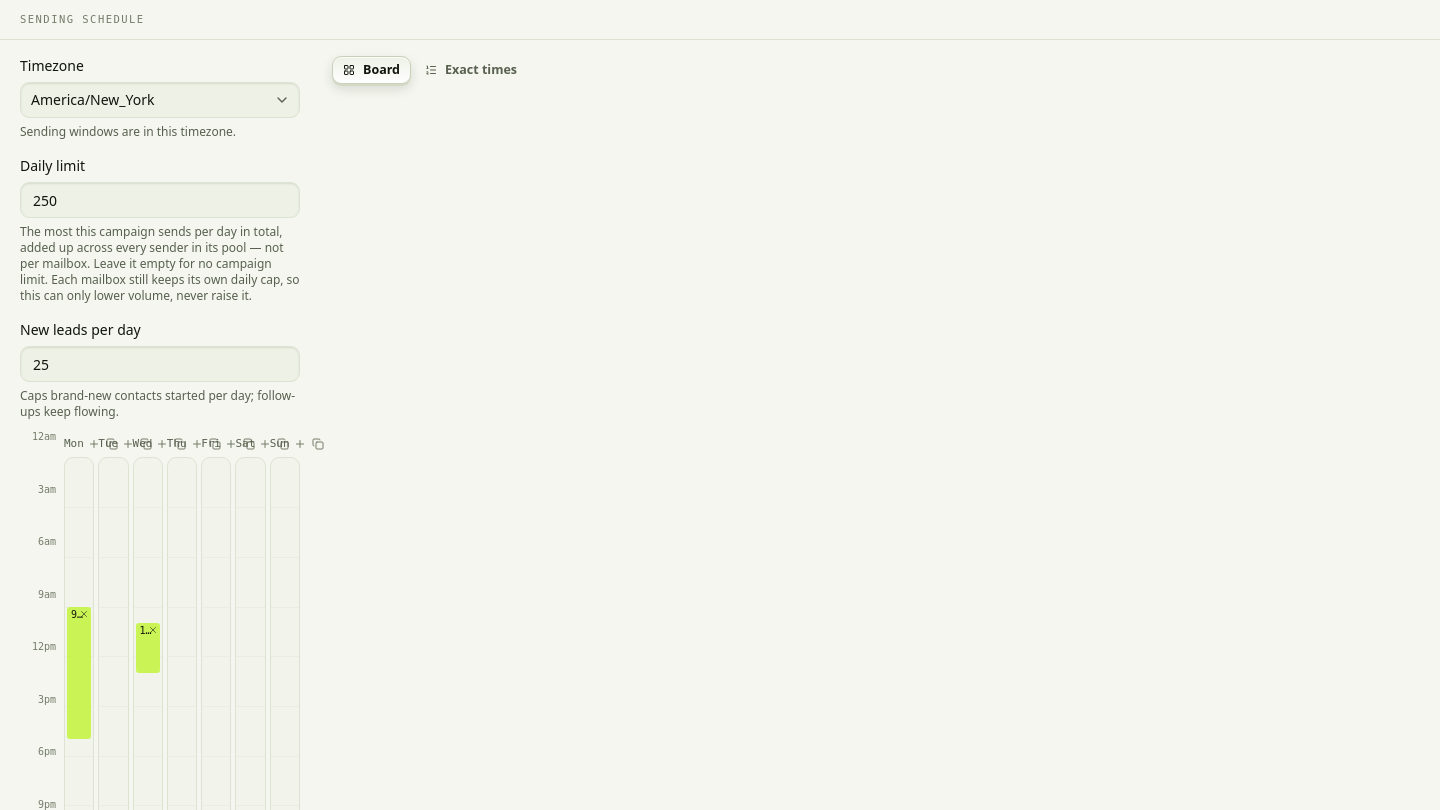
Test: SchedulePanel › sends the edited schedule as a full replace
Click the button "Exact times" at (471, 70), box [415,56,527,84]
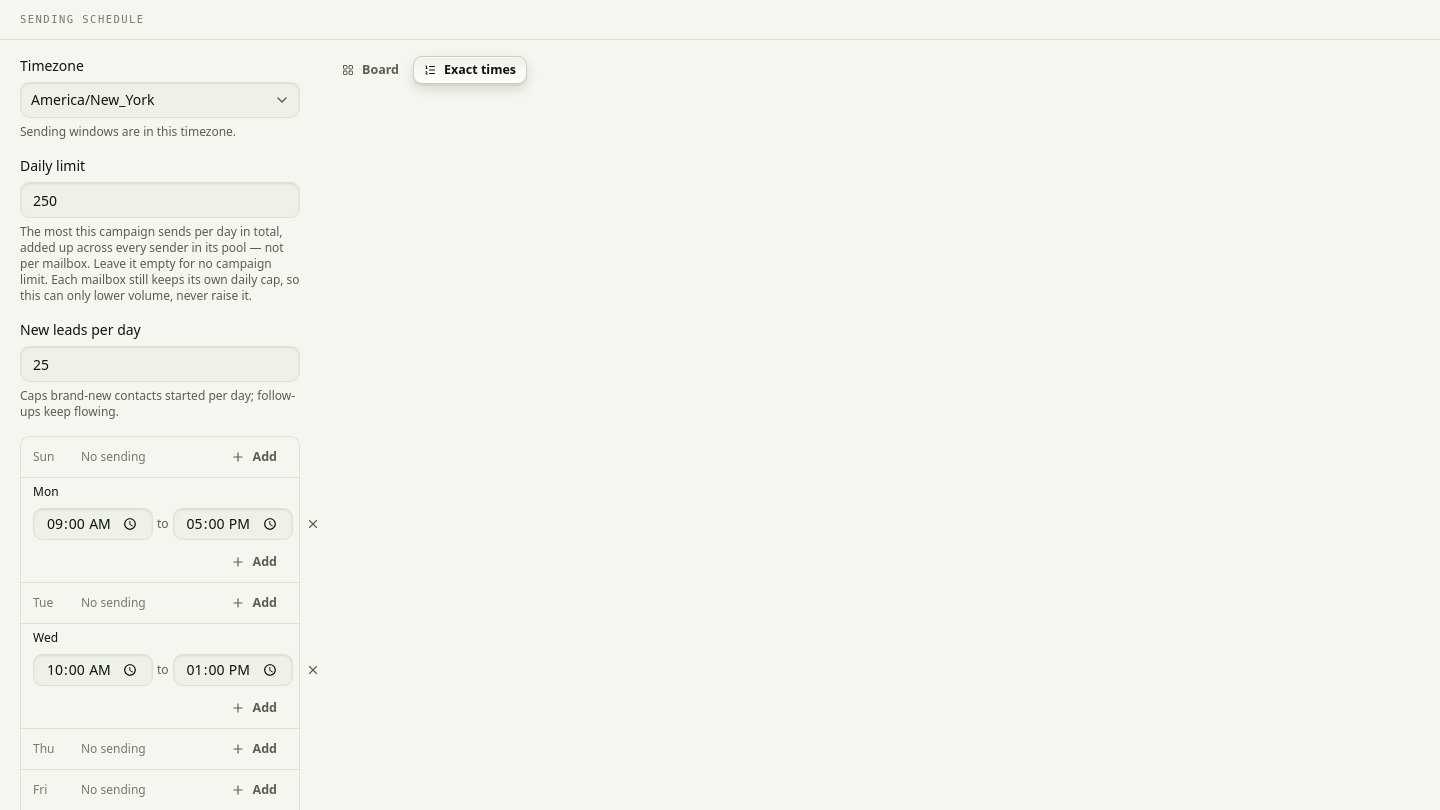
Expected: the time field named "Mon window 1 start" is shown
Replace the text in the time field named "Mon window 1 start" with "10:30" at (93, 524), box [33,508,153,540]
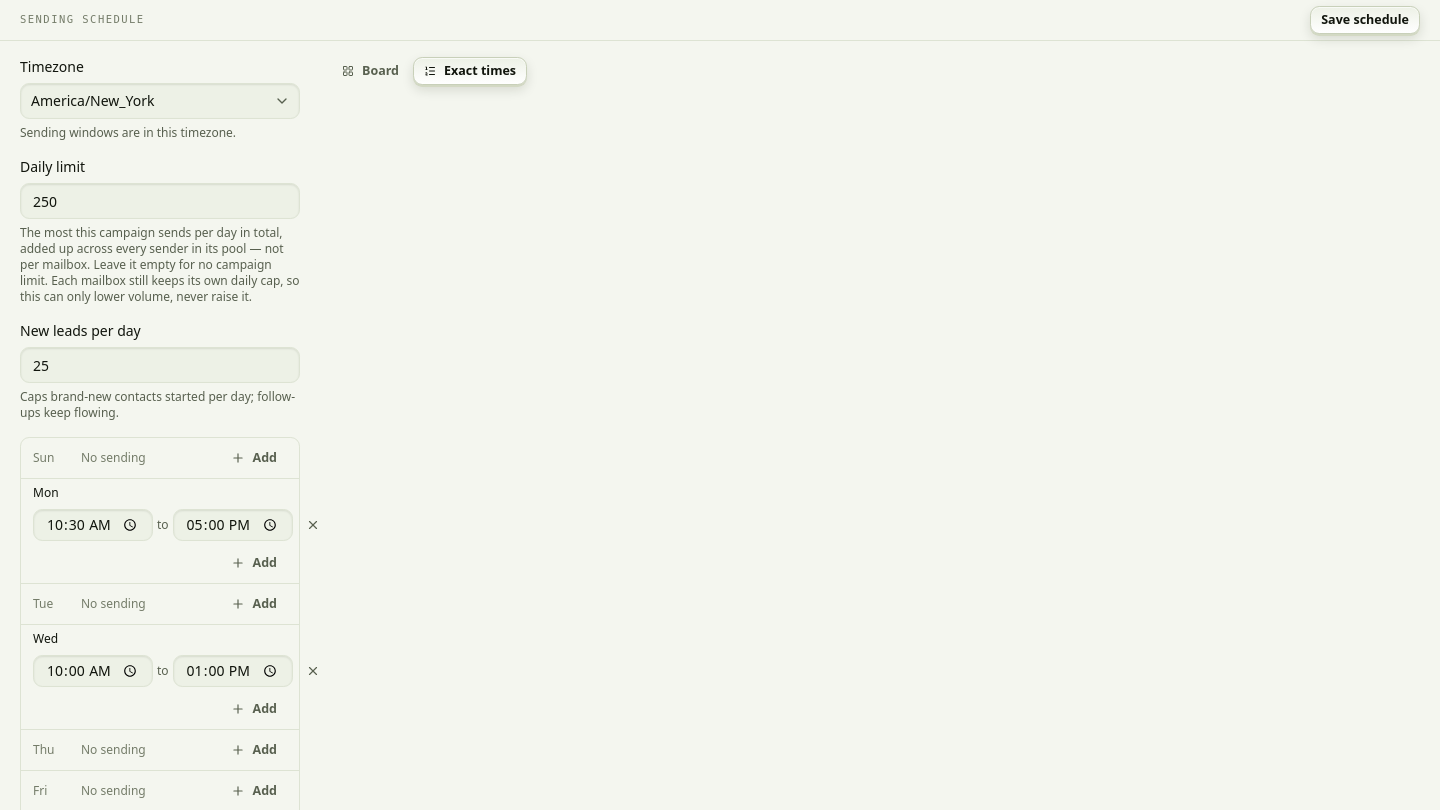
Click the button "Save schedule" at (1365, 20), box [1310,6,1420,34]
(page scrolled)
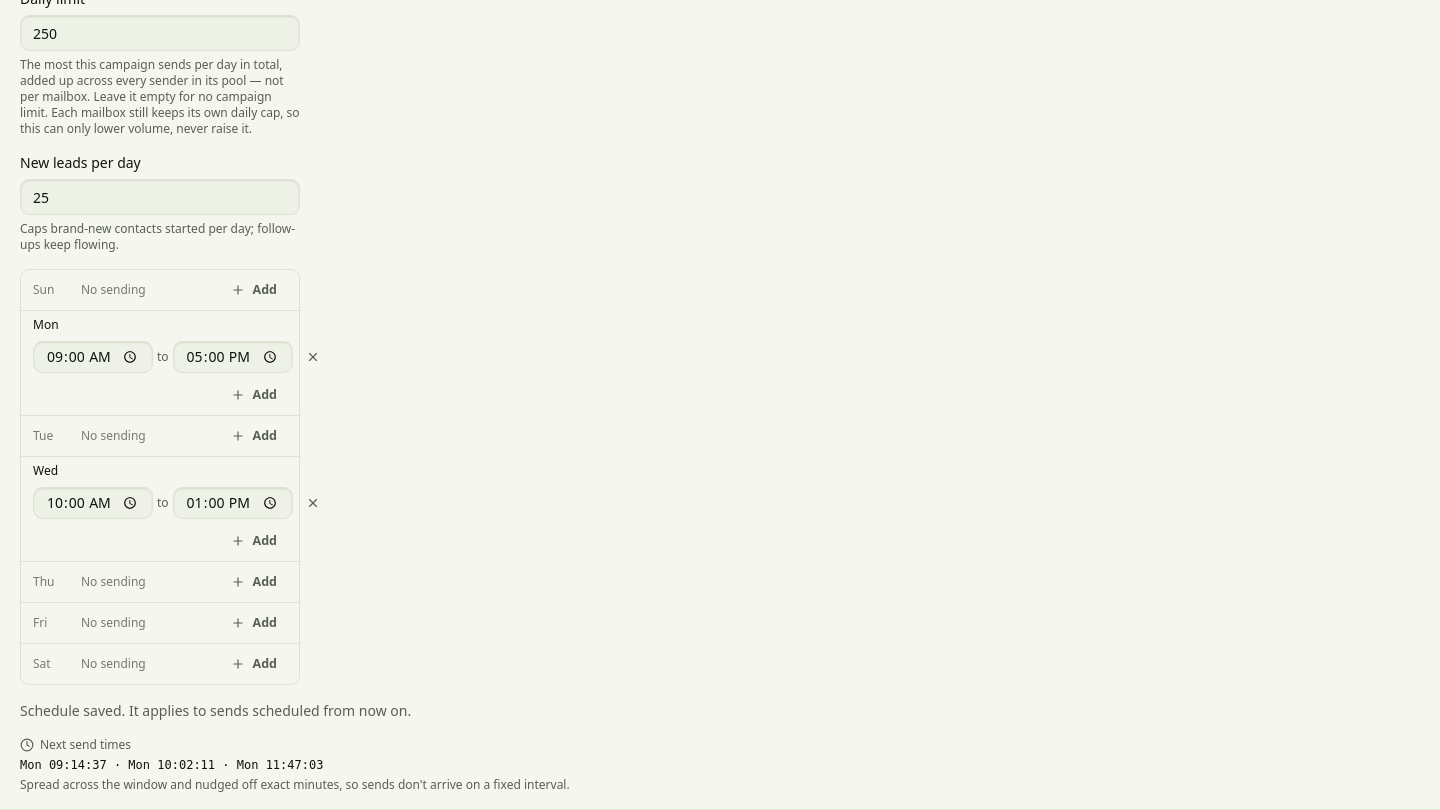
Expected: the text "Schedule saved. It applies to sends scheduled from now on." is shown, [20,701,411,720]
